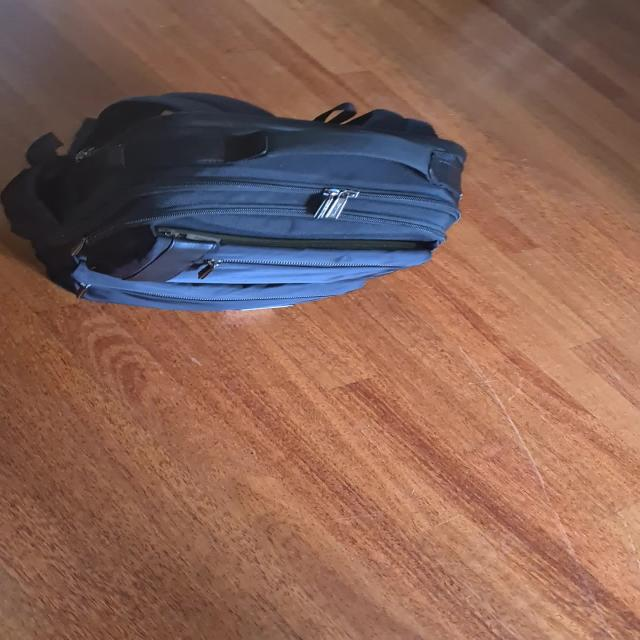backpack: (0, 82, 479, 315)
